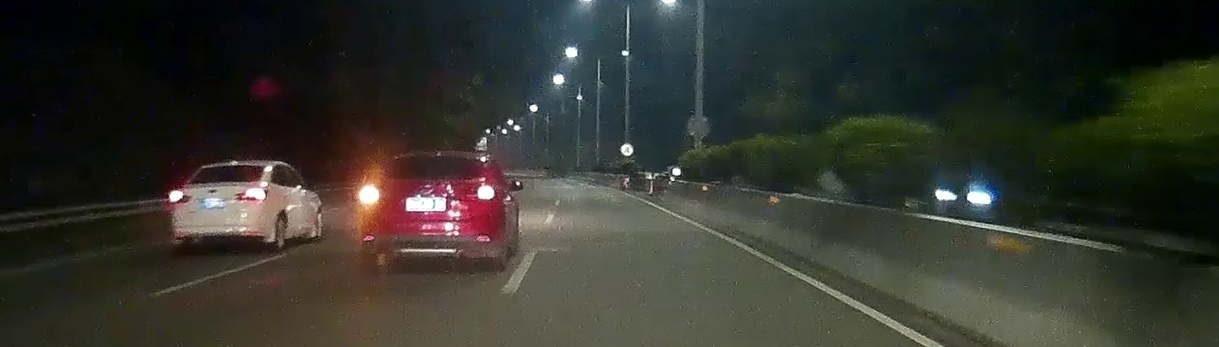L_light: (361, 189, 380, 205), (171, 194, 193, 203)
R_light: (236, 188, 268, 202), (473, 187, 496, 201)
T_light: (426, 157, 446, 161), (221, 166, 236, 170)
night-left: (359, 148, 503, 271)
night-no: (170, 159, 273, 255)
